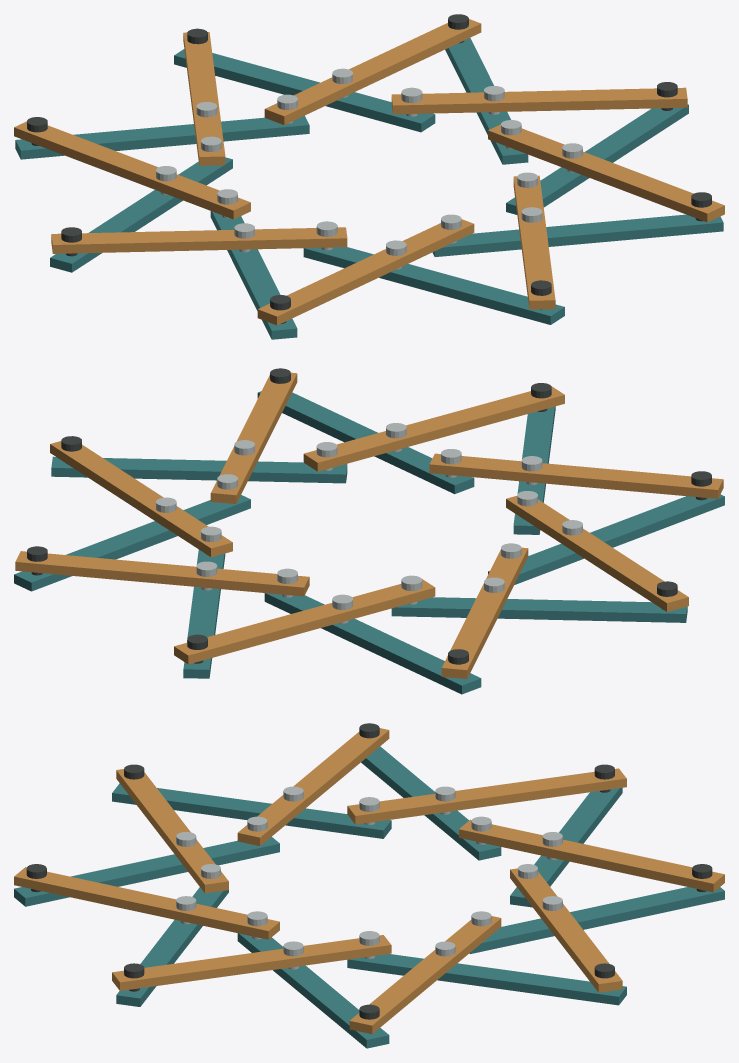
3 renders of one model, top to bottom at view 1: azimuth 30°, elevation 25°; view 2: azimuth 150°, elevation 25°; view 3: azimuth 270°, elevation 25°, orthographic. The views are drawn at different scales.
Visible parts, largest first — view 1: WholeUpperCrossLink_00, WholeUpperCrossLink_04, WholeGroundFootLowerLink_06, WholeUpperCrossLink_07, WholeUpperCrossLink_03, WholeUpperCrossLink_05, WholeUpperCrossLink_01, WholeGroundFootLowerLink_05, WholeGroundFootLowerLink_02, WholeGroundFootLowerLink_01, WholeGroundFootLowerLink_07, WholeGroundFootLowerLink_03 (+4 smaller); view 2: WholeUpperCrossLink_01, WholeUpperCrossLink_05, WholeUpperCrossLink_06, WholeUpperCrossLink_02, WholeGroundFootLowerLink_03, WholeUpperCrossLink_04, WholeUpperCrossLink_00, WholeGroundFootLowerLink_07, WholeGroundFootLowerLink_02, WholeGroundFootLowerLink_04, WholeGroundFootLowerLink_06, WholeGroundFootLowerLink_00 (+4 smaller); view 3: WholeUpperCrossLink_03, WholeUpperCrossLink_07, WholeUpperCrossLink_02, WholeUpperCrossLink_06, WholeGroundFootLowerLink_00, WholeGroundFootLowerLink_01, WholeGroundFootLowerLink_04, WholeUpperCrossLink_04, WholeUpperCrossLink_00, WholeGroundFootLowerLink_05, WholeUpperCrossLink_01, WholeUpperCrossLink_05 (+4 smaller).
Boxes of the visible parts, x1,y1,x2,y2 form: WholeUpperCrossLink_00: (391,87,687,114); WholeUpperCrossLink_04: (51,227,347,253); WholeGroundFootLowerLink_06: (432,214,723,256); WholeUpperCrossLink_07: (488,124,724,222); WholeUpperCrossLink_03: (14,121,250,219); WholeUpperCrossLink_05: (257,219,474,325); WholeUpperCrossLink_01: (264,19,481,124); WholeGroundFootLowerLink_05: (303,247,564,324); WholeGroundFootLowerLink_02: (15,115,309,159); WholeGroundFootLowerLink_01: (174,49,435,132); WholeGroundFootLowerLink_07: (506,104,688,214); WholeGroundFootLowerLink_03: (50,157,232,272); WholeUpperCrossLink_01: (15,551,309,596); WholeUpperCrossLink_05: (429,453,723,498); WholeUpperCrossLink_06: (303,386,564,471); WholeUpperCrossLink_02: (174,579,435,664); WholeGroundFootLowerLink_03: (391,597,687,622); WholeUpperCrossLink_04: (506,496,688,611); WholeUpperCrossLink_00: (50,441,232,557); WholeGroundFootLowerLink_07: (51,456,347,483); WholeGroundFootLowerLink_02: (264,593,481,694); WholeGroundFootLowerLink_04: (488,494,724,584); WholeGroundFootLowerLink_06: (257,391,474,494); WholeGroundFootLowerLink_00: (14,495,250,591); WholeUpperCrossLink_03: (347,768,626,824); WholeUpperCrossLink_07: (112,935,391,990); WholeUpperCrossLink_02: (459,819,724,892); WholeUpperCrossLink_06: (14,867,279,939); WholeGroundFootLowerLink_00: (347,954,626,1005); WholeGroundFootLowerLink_01: (469,887,724,953); WholeGroundFootLowerLink_04: (112,783,391,838); WholeUpperCrossLink_04: (237,728,389,845); WholeUpperCrossLink_00: (349,916,501,1033); WholeGroundFootLowerLink_05: (14,837,279,906); WholeUpperCrossLink_01: (510,868,622,992); WholeUpperCrossLink_05: (116,769,228,893).
Bounding box in the file's own units: 0.4486 × 0.021 × 0.4486.
